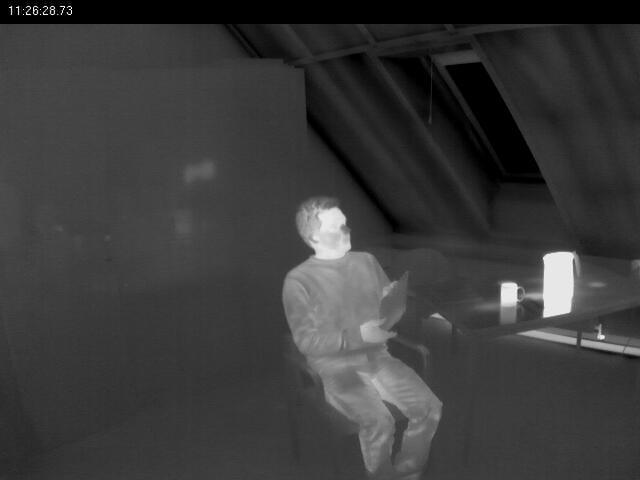person: (278, 194, 449, 480)
